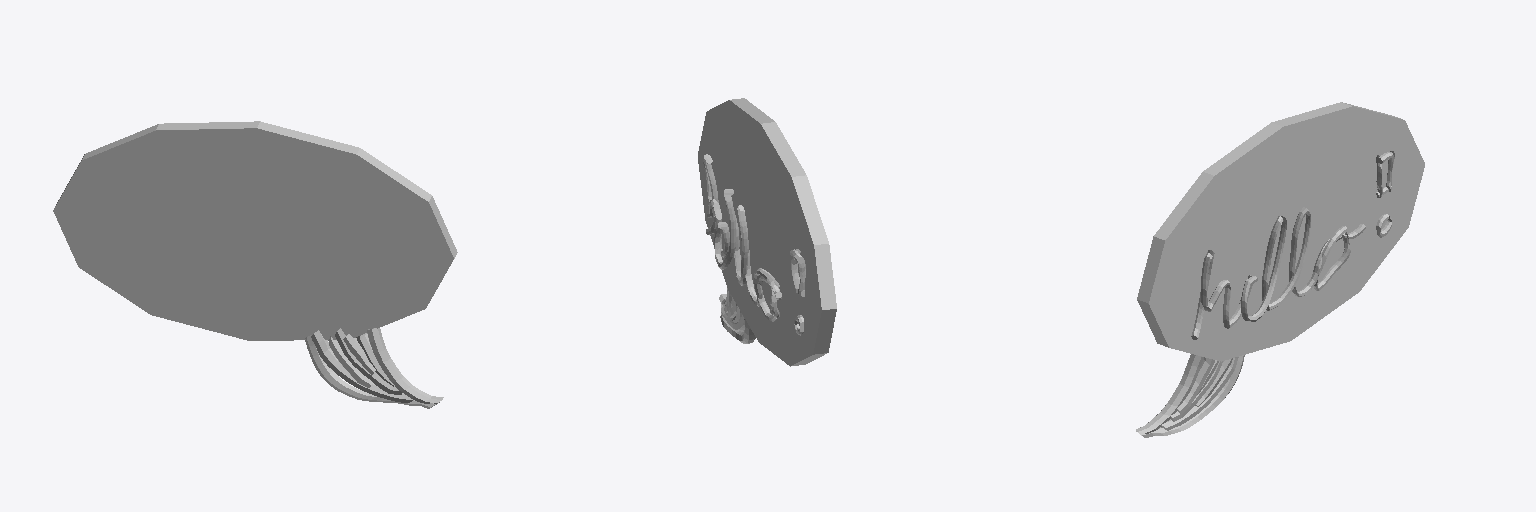
File: hello.obj
3 views of the same model, side by side, from view 1: azimuth 30°, elevation 25°; view 2: azimuth 150°, elevation 25°; view 3: azimuth 270°, elevation 25° (orthographic).
Parts seen in each view (by area): view 1: group[number redacted], group[number redacted], group[number redacted], group[number redacted], group[number redacted], group[number redacted]; view 2: group[number redacted]; view 3: group[number redacted], group[number redacted], group[number redacted], group[number redacted], group[number redacted], group[number redacted], group[number redacted], group[number redacted], group[number redacted].
Boxes of the visible parts, <box> form: group[number redacted]: <box>53,121,457,340</box>; group[number redacted]: <box>367,328,443,403</box>; group[number redacted]: <box>305,335,439,408</box>; group[number redacted]: <box>311,330,412,402</box>; group[number redacted]: <box>335,328,401,394</box>; group[number redacted]: <box>328,336,372,387</box>; group[number redacted]: <box>698,98,836,366</box>; group[number redacted]: <box>1137,102,1424,361</box>; group[number redacted]: <box>1136,354,1203,433</box>; group[number redacted]: <box>1136,355,1244,437</box>; group[number redacted]: <box>1161,357,1238,430</box>; group[number redacted]: <box>1264,216,1286,299</box>; group[number redacted]: <box>1282,207,1310,295</box>; group[number redacted]: <box>1262,231,1287,310</box>; group[number redacted]: <box>1201,262,1230,311</box>; group[number redacted]: <box>1177,357,1214,414</box>.
Bounding box in the file's own units: 0.4359 × 0.4041 × 0.4037.